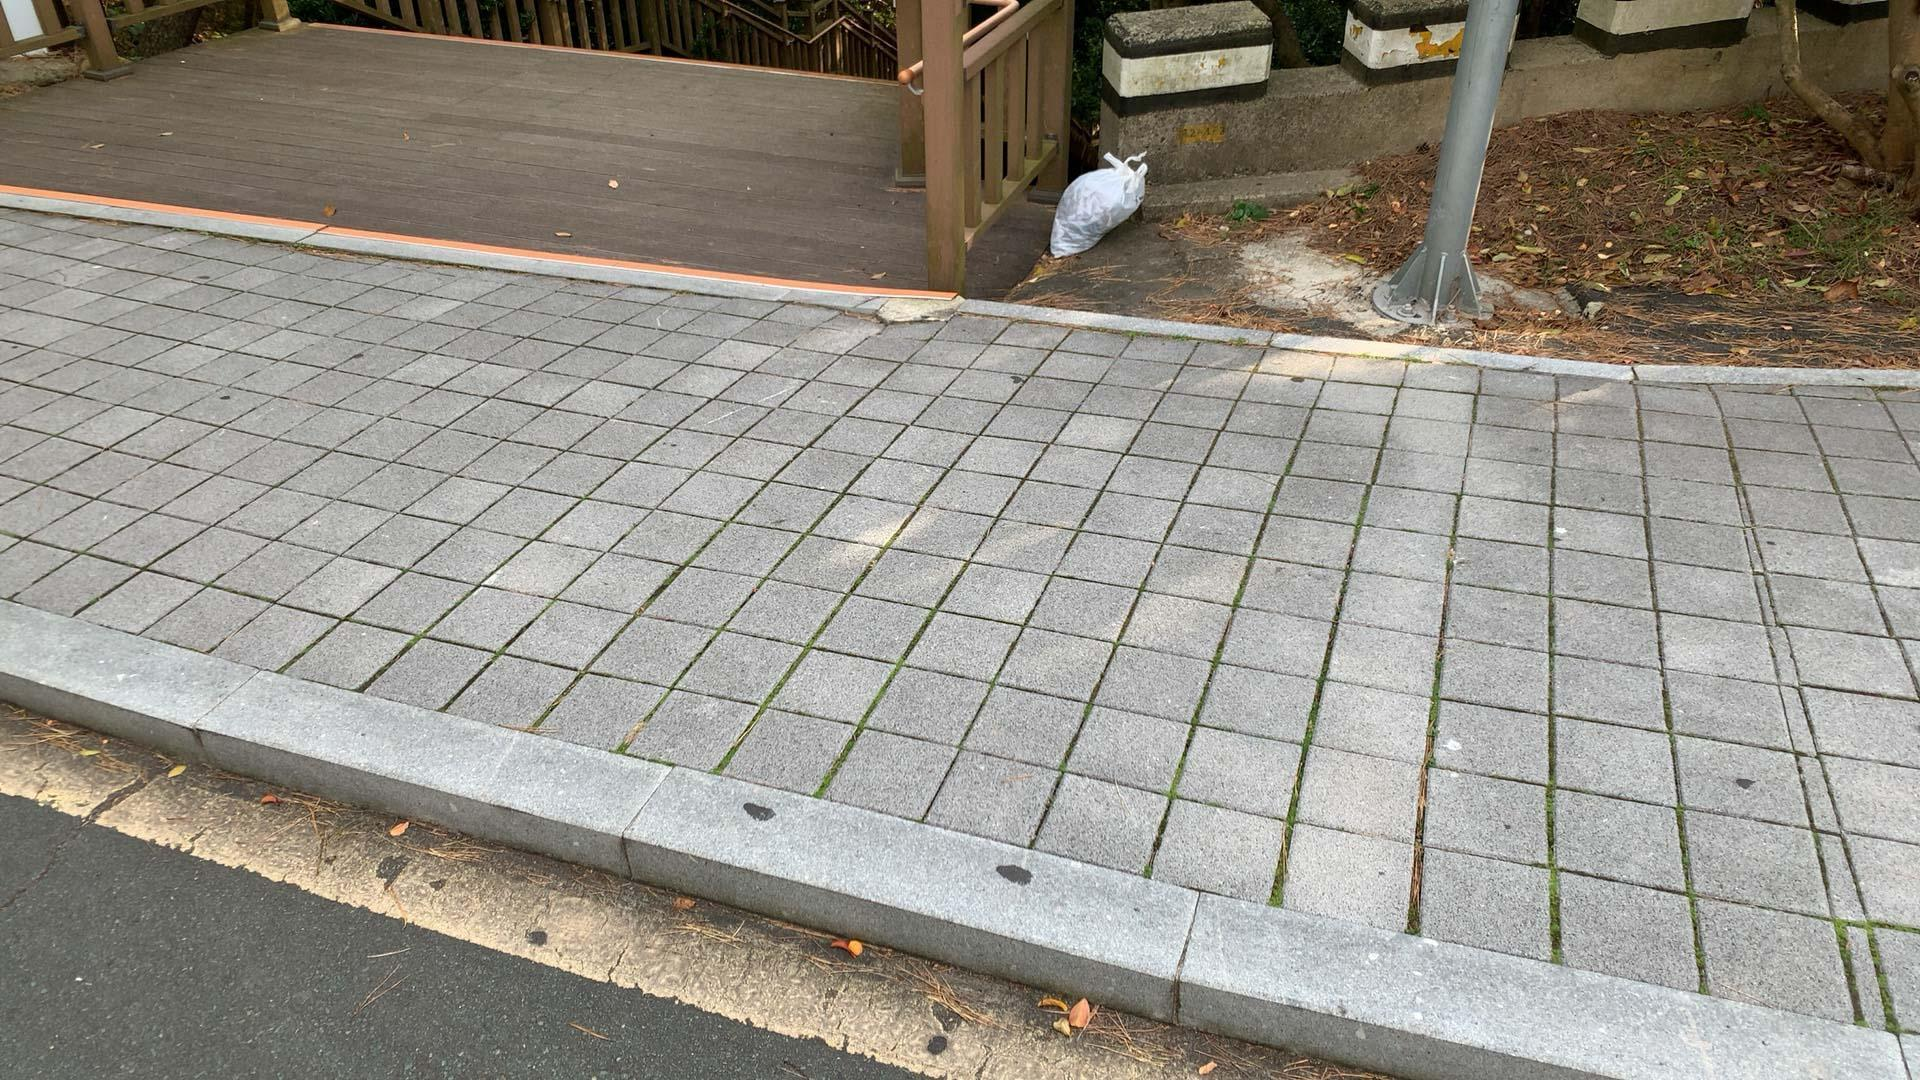white_bag: (1044, 144, 1153, 262)
